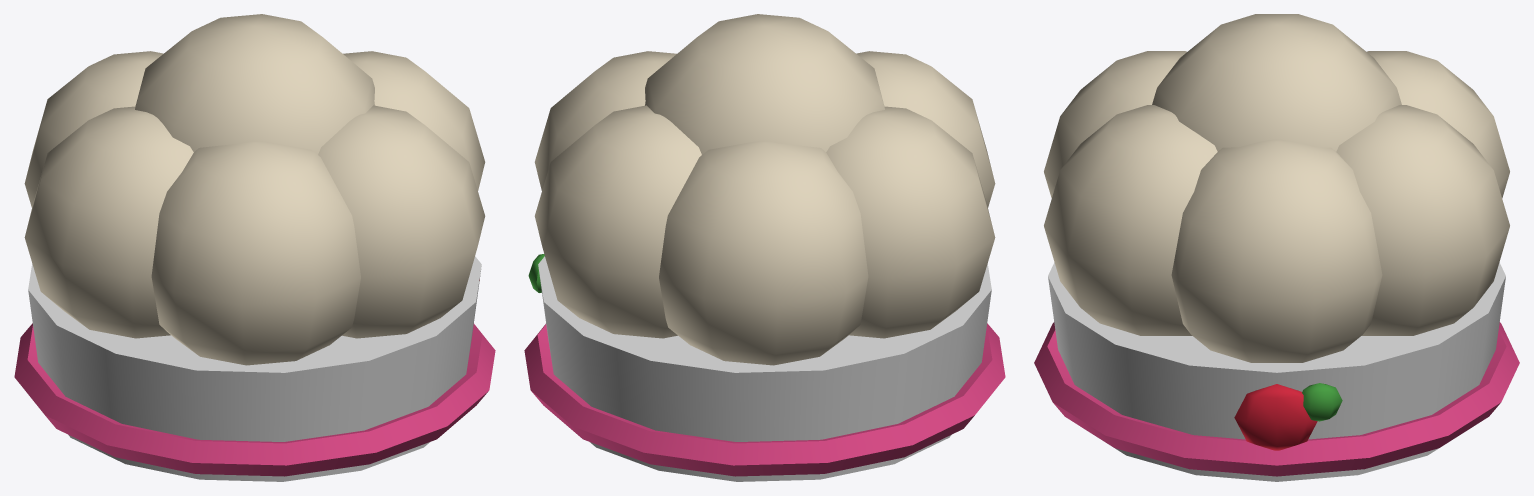
File: chef_hat.glb
3 renders of one model, left to right at view 1: azimuth 30°, elevation 25°; view 2: azimuth 150°, elevation 25°; view 3: azimuth 270°, elevation 25°, orthographic.
Parts seen in each view (by area): view 1: chef_hat; view 2: chef_hat; view 3: chef_hat.
Boxes of the visible parts, x1,y1,x2,y2 form: chef_hat: [14, 14, 495, 481]; chef_hat: [524, 14, 1005, 481]; chef_hat: [1034, 14, 1519, 481].
Bounding box in the file's own units: 0.4614 × 0.38 × 0.456.
